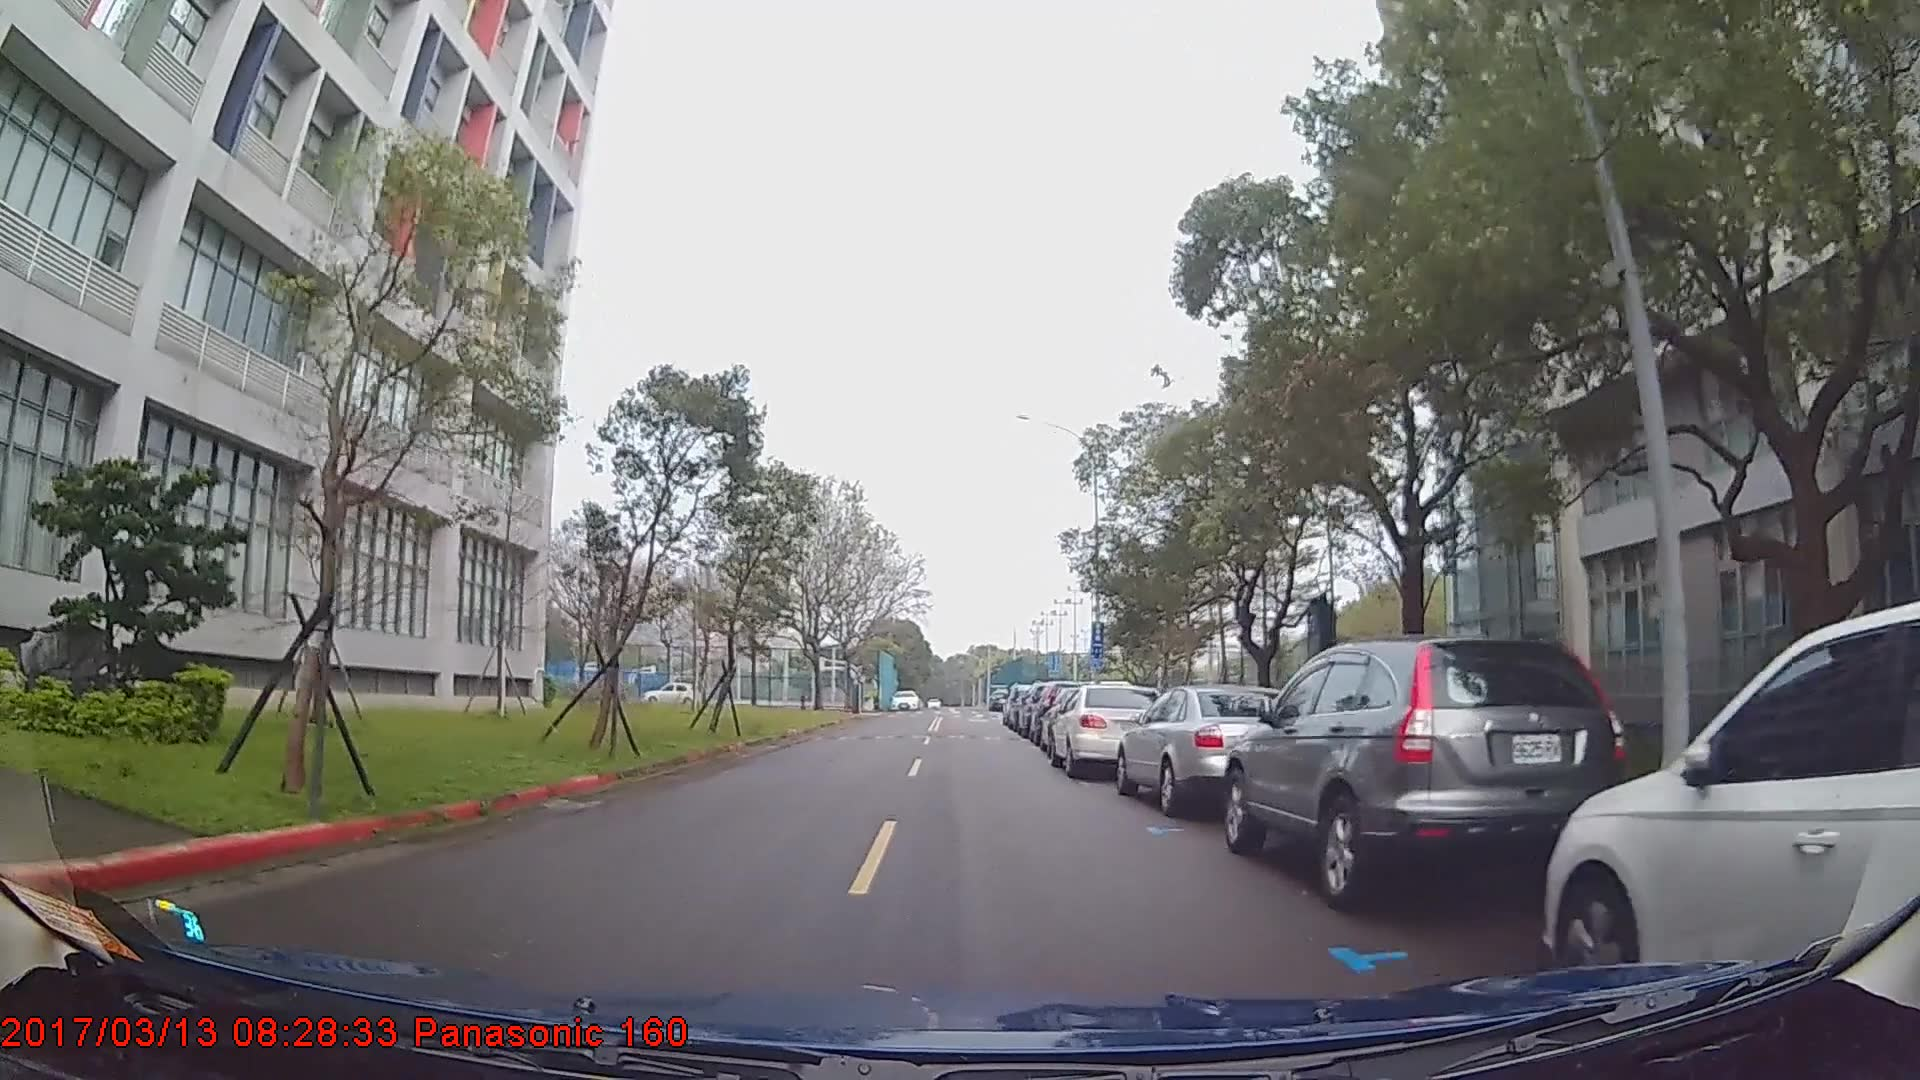vehicle: (1544, 597, 1920, 1007), (1224, 633, 1629, 913), (1113, 682, 1296, 818), (1047, 680, 1166, 781), (642, 676, 698, 704)
